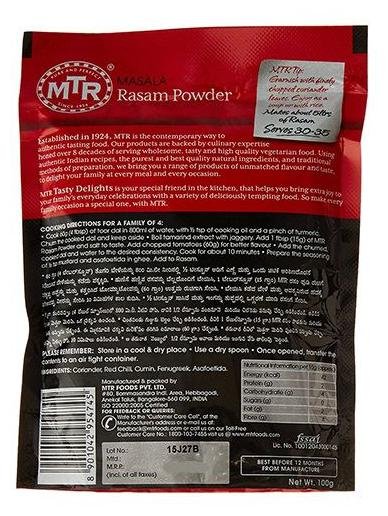fssai: (294, 433, 320, 443)
